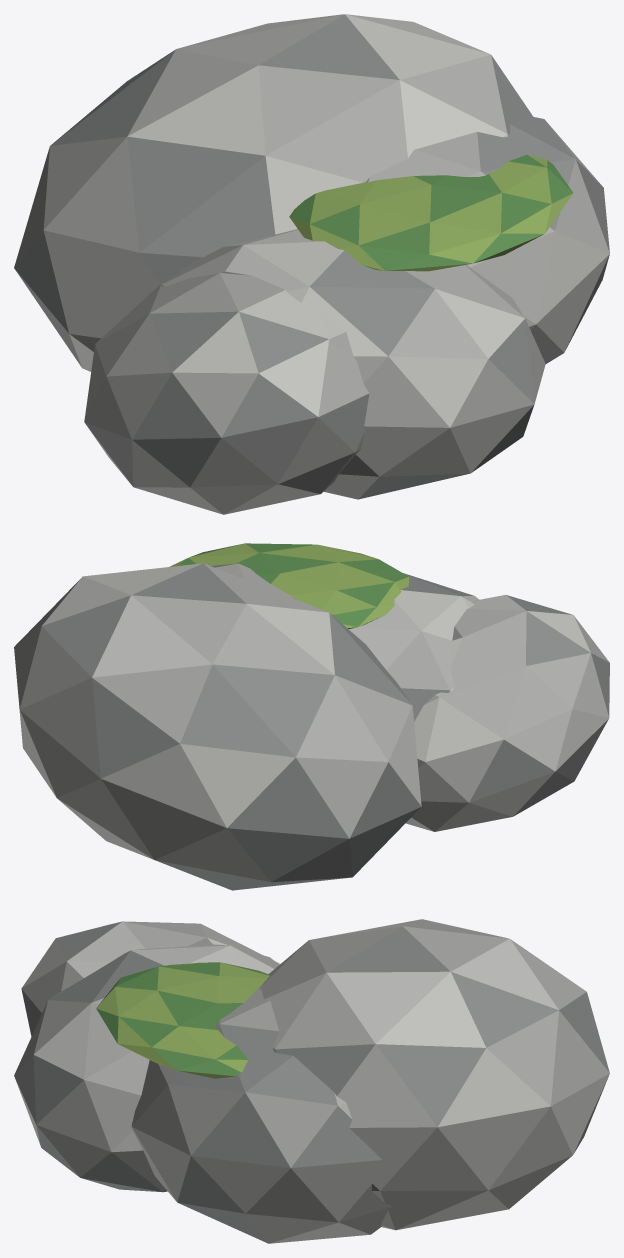
File: rock_cluster_02.glb
3 views of the same model, one above another, from view 1: azimuth 30°, elevation 25°; view 2: azimuth 150°, elevation 25°; view 3: azimuth 270°, elevation 25° (orthographic). The views are drawn at different scales.
Visible parts, largest first — view 1: rock_cluster_02; view 2: rock_cluster_02; view 3: rock_cluster_02.
Part boxes in pixels (bbox=[...]): rock_cluster_02: bbox=[14, 14, 609, 514]; rock_cluster_02: bbox=[14, 543, 609, 890]; rock_cluster_02: bbox=[14, 919, 609, 1243].
Bounding box in the file's own units: 2.32 × 1.25 × 2.45.
